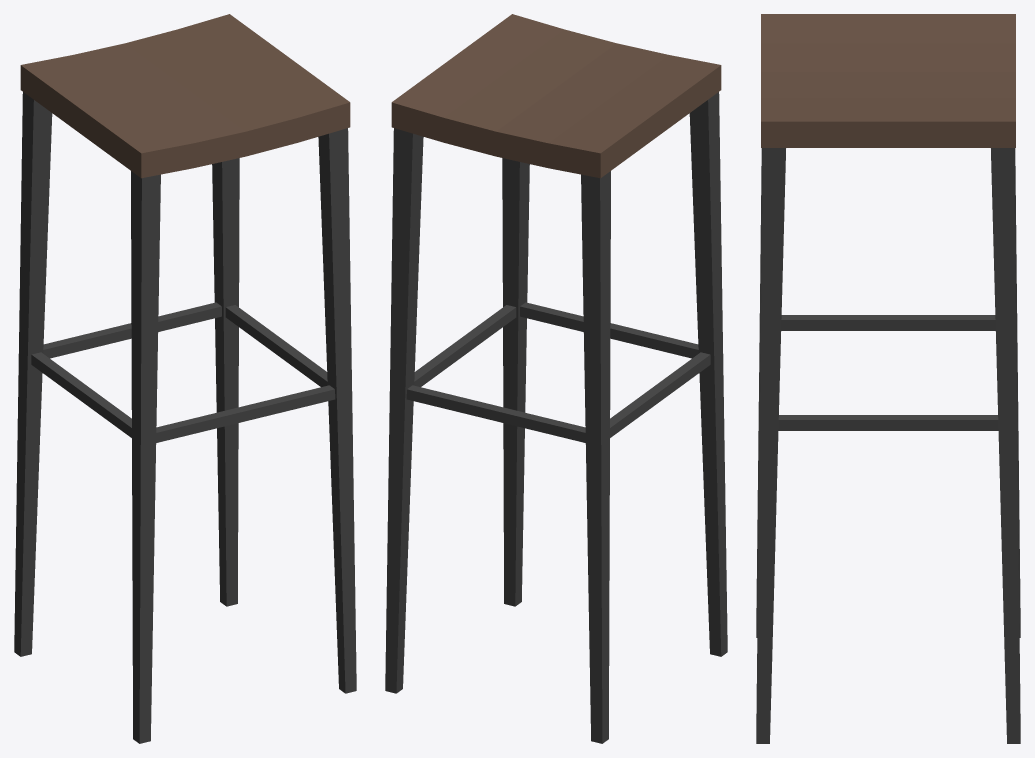
The model's file is Chair_08_C3.fbx.
The picture shows the model from 3 angles, left to right: view 1: azimuth 30°, elevation 25°; view 2: azimuth 150°, elevation 25°; view 3: azimuth 270°, elevation 25°; orthographic projection. The views are drawn at different scales.
Visible parts, largest first — view 1: Chair_08_C3; view 2: Chair_08_C3; view 3: Chair_08_C3.
Boxes of the visible parts, x1,y1,x2,y2 form: Chair_08_C3: (14, 14, 356, 743); Chair_08_C3: (385, 14, 727, 743); Chair_08_C3: (756, 14, 1020, 743).
Size of the model in its own units: 33.75 by 87.3 by 33.75.
